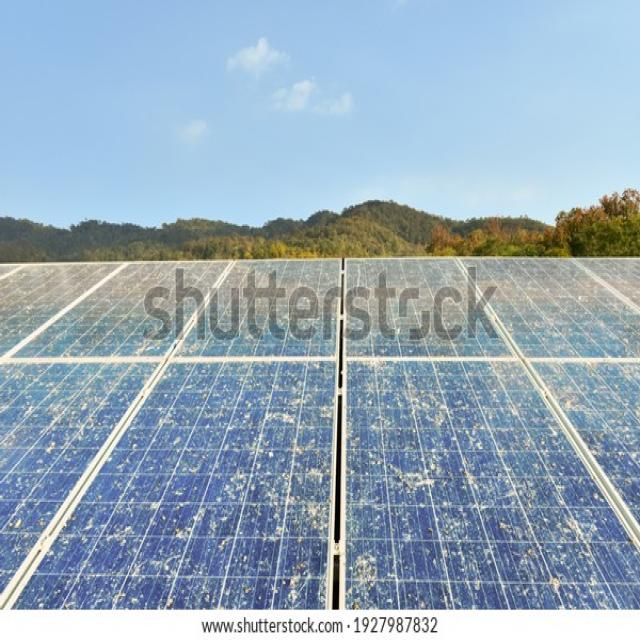dust-solar-panel: (0, 261, 640, 613)
